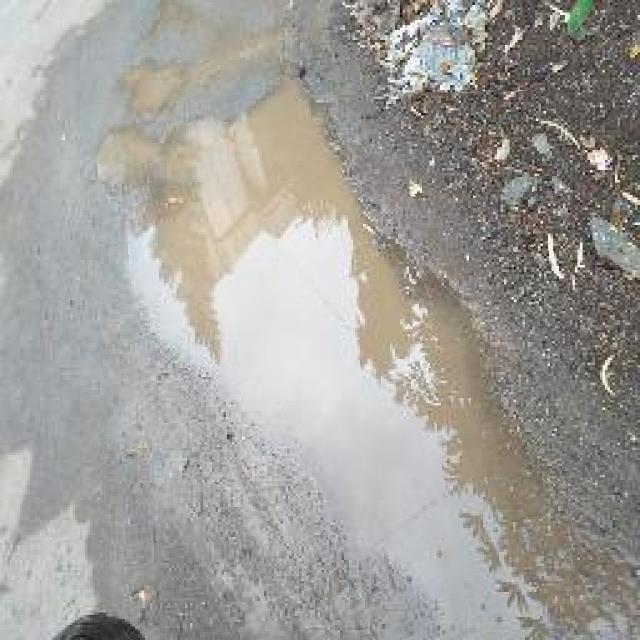puddle: (100, 93, 573, 640)
